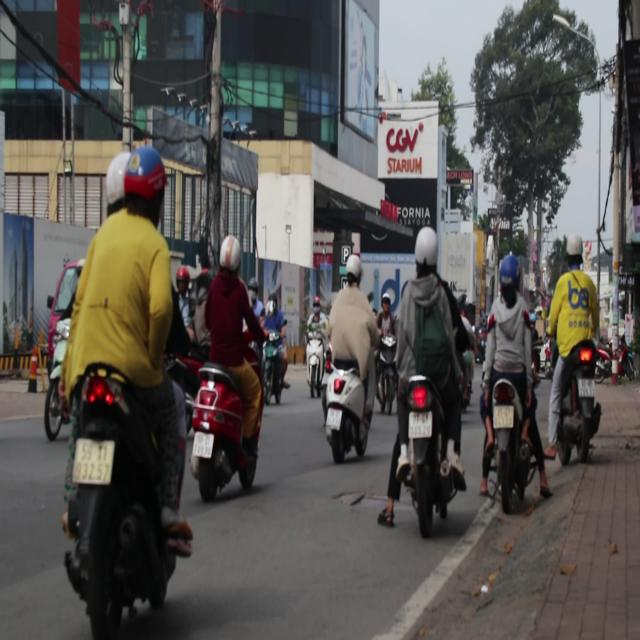motorbike: (58, 356, 193, 630), (387, 376, 465, 537), (181, 356, 258, 504), (486, 380, 538, 511), (555, 348, 607, 478), (320, 347, 370, 462), (300, 333, 326, 403)
truck: (43, 254, 86, 426)
